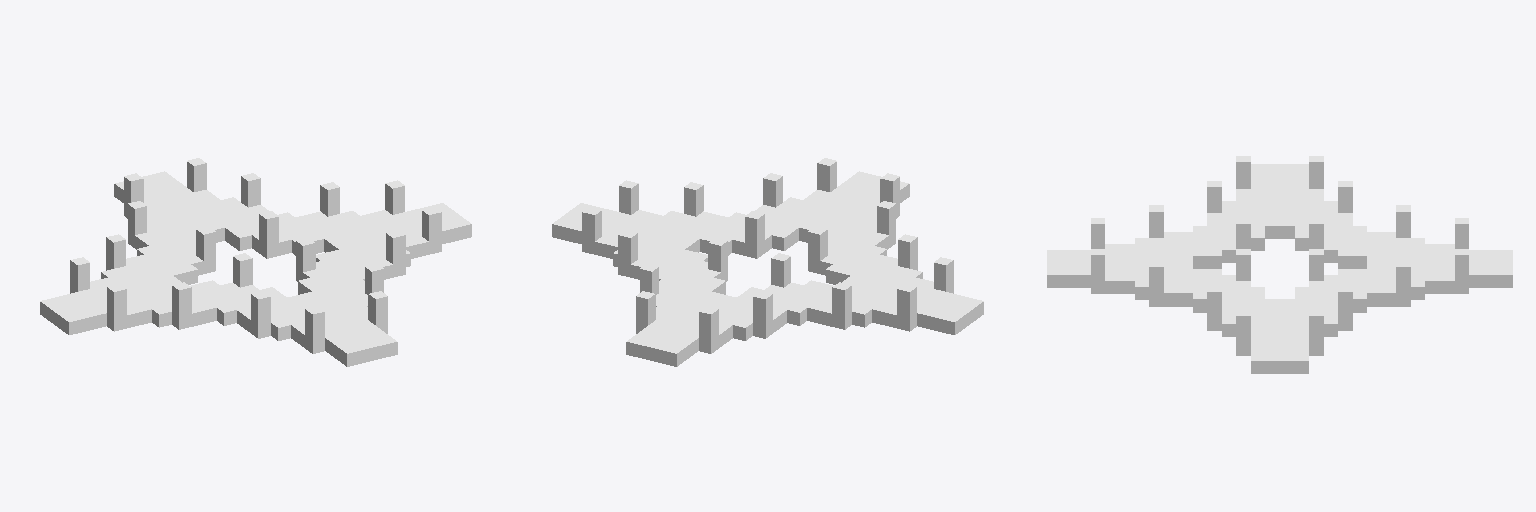
The model's file is crossroad4.obj.
The picture shows the model from 3 angles: view 1: azimuth 30°, elevation 25°; view 2: azimuth 150°, elevation 25°; view 3: azimuth 270°, elevation 25°; orthographic projection.
Parts seen in each view (by area): view 1: object 1; view 2: object 1; view 3: object 1.
Part boxes in pixels (left/top/right/bottom): object 1: left=40, top=158, right=471, bottom=366; object 1: left=552, top=158, right=983, bottom=366; object 1: left=1047, top=156, right=1512, bottom=373.
Bounding box in the file's own units: 3.2 × 0.3 × 3.2.